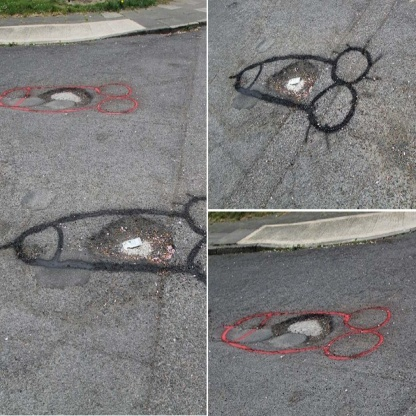pothole: (84, 212, 182, 269), (266, 52, 322, 106), (271, 308, 337, 347), (36, 82, 92, 113)
